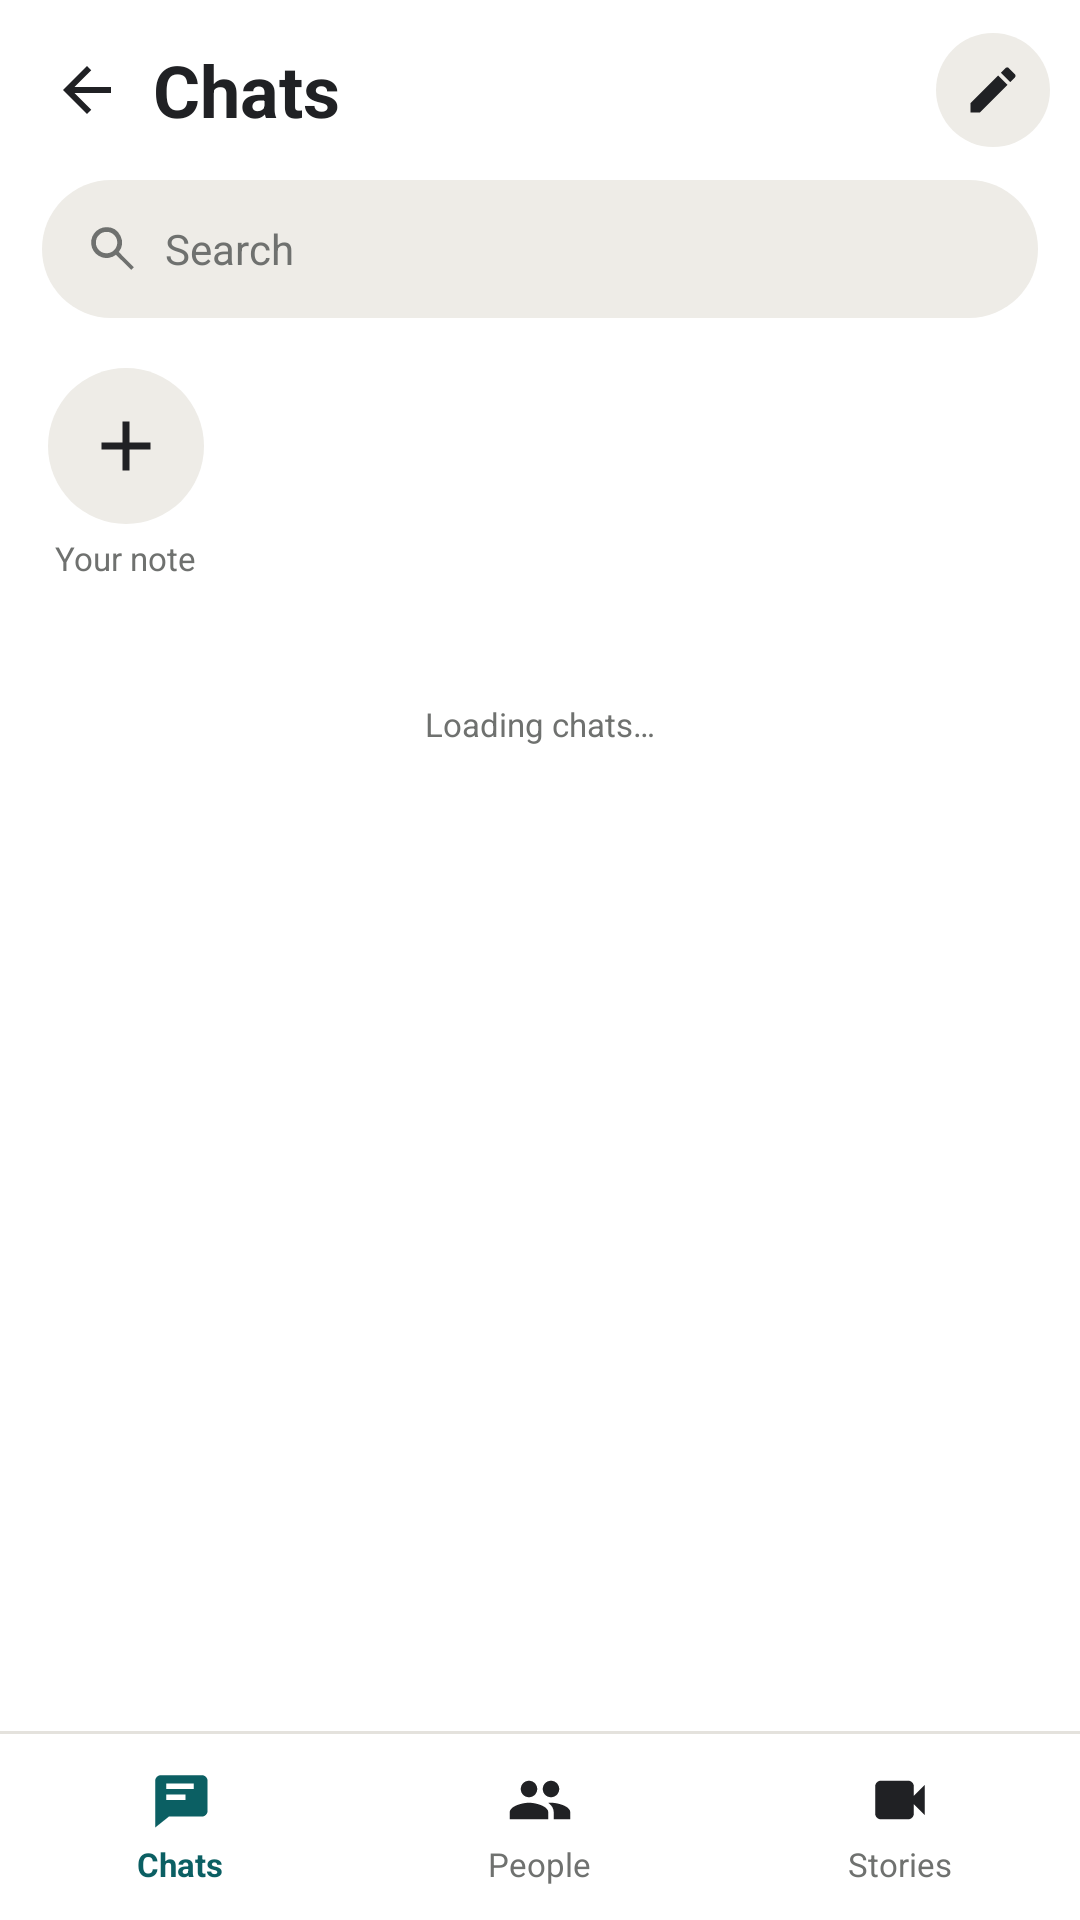

Icon click points for this 1080w x 1920h phone screenshot, format (x,y):
Back: (87,90)
Compose: (993,90)
friends: (540,1800)
video: (900,1800)
